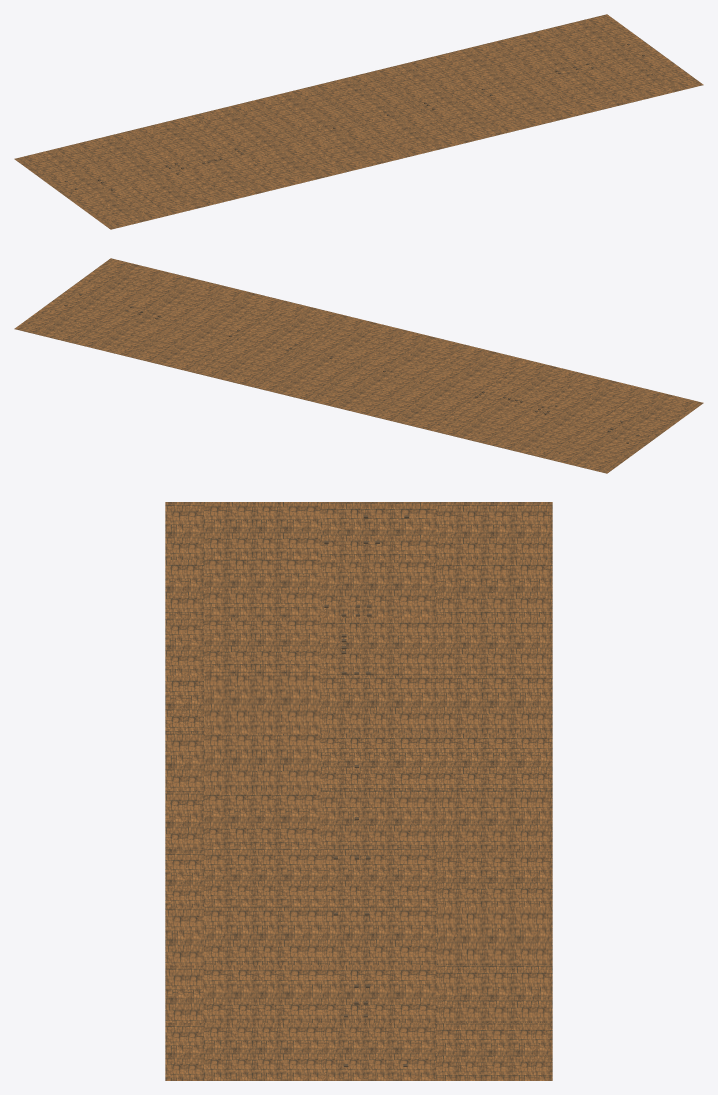
File: LVL_CatacombsFixed05.07.18.fbx
3 renders of one model, top to bottom at view 1: azimuth 30°, elevation 25°; view 2: azimuth 150°, elevation 25°; view 3: azimuth 270°, elevation 25°, orthographic. The views are drawn at different scales.
Parts seen in each view (by area): view 1: pPlane2; view 2: pPlane2; view 3: pPlane2.
Part boxes in pixels (x1,y1,x2,y2): pPlane2: (14,14,703,229); pPlane2: (14,258,703,473); pPlane2: (165,502,552,1080).
Size of the model in its own units: 111230 by 1105 by 31439.
